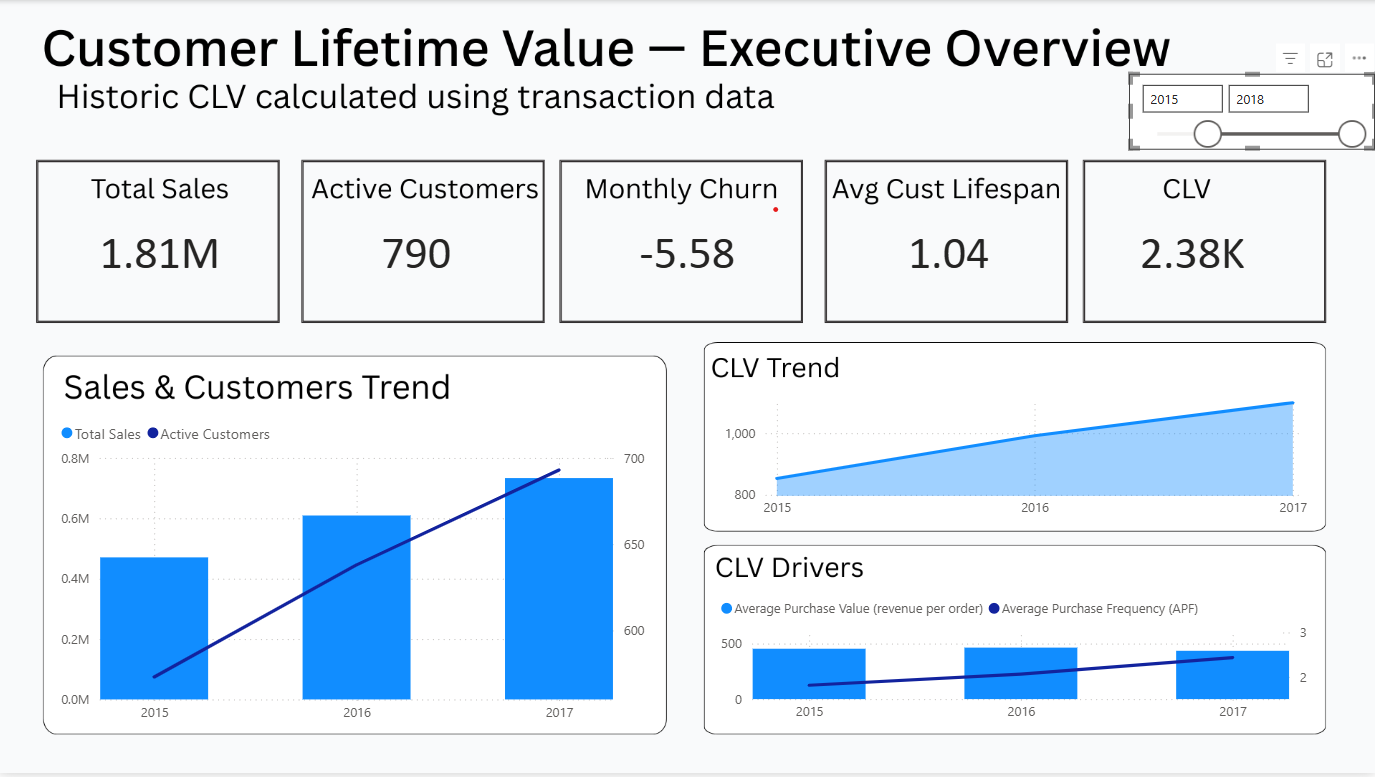

The page's visual inventory and layout, read from the dashboard file:
{"tool":"powerbi","page":{"name":"CLV -1 ","canvas":[1280,720],"ordinal":0},"visuals":[{"type":"card","fields":{"Values":["Superstore.Total Sales"]},"box":[70,192,160,80],"z":0},{"type":"card","fields":{"Values":["Superstore.Active Customers"]},"box":[308,192,160,80],"z":1000},{"type":"card","fields":{"Values":["Superstore.Monthly Churn"]},"box":[560,192,160,80],"z":2000},{"type":"card","fields":{"Values":["Superstore.Average Customer Lifespan (months)"]},"box":[804,192,160,80],"z":3000},{"type":"card","fields":{"Values":["Superstore.-- CLV using ARPC * Avg LifespanCLV (ARPC * Lifespan)"]},"box":[1030,192,160,80],"z":4000},{"type":"lineStackedColumnComboChart","fields":{"Category":["Order - Dates.Dates.Variation.Date Hierarchy.Year","Order - Dates.Dates.Variation.Date Hierarchy.Quarter","Order - Dates.Dates.Variation.Date Hierarchy.Month","Order - Dates.Dates.Variation.Date Hierarchy.Day"],"Y":["Superstore.Total Sales"],"Y2":["Superstore.Active Customers"]},"box":[52,382,554,298],"z":5000},{"type":"stackedAreaChart","fields":{"Category":["Order - Dates.Dates.Variation.Date Hierarchy.Year","Order - Dates.Dates.Variation.Date Hierarchy.Quarter","Order - Dates.Dates.Variation.Date Hierarchy.Month","Order - Dates.Dates.Variation.Date Hierarchy.Day"],"Y":["Superstore.-- CLV using APV * APF * Lifespan (equivalent)CLV (APV * APF * Lifespan)"]},"box":[670,360,552,130],"z":6000},{"type":"lineClusteredColumnComboChart","fields":{"Category":["Order - Dates.Dates.Variation.Date Hierarchy.Year","Order - Dates.Dates.Variation.Date Hierarchy.Quarter","Order - Dates.Dates.Variation.Date Hierarchy.Month","Order - Dates.Dates.Variation.Date Hierarchy.Day"],"Y":["Superstore.Average Purchase Value (revenue per order)"],"Y2":["Superstore.Average Purchase Frequency (APF)"]},"box":[666,546,556,134],"z":7000},{"type":"slicer","fields":{"Values":["Order - Dates.Year"]},"box":[1051.4,68.6,228.6,71.4],"z":8000}]}

Visuals, with their boxes in screenshot pixels (x1, y1, x2, y2), scaled from the page's 1280x720 canvas onto the 1375x777 screenshot:
card - Superstore.Total Sales: BBox(75, 207, 247, 294)
card - Superstore.Active Customers: BBox(331, 207, 503, 294)
card - Superstore.Monthly Churn: BBox(602, 207, 773, 294)
card - Superstore.Average Customer Lifespan (months): BBox(864, 207, 1036, 294)
card - Superstore.-- CLV using ARPC * Avg LifespanCLV (ARPC * Lifespan): BBox(1106, 207, 1278, 294)
lineStackedColumnComboChart - Order - Dates.Dates.Variation.Date Hierarchy.Year x Order - Dates.Dates.Variation.Date Hierarchy.Quarter: BBox(56, 412, 651, 734)
stackedAreaChart - Order - Dates.Dates.Variation.Date Hierarchy.Year x Order - Dates.Dates.Variation.Date Hierarchy.Quarter: BBox(720, 388, 1313, 529)
lineClusteredColumnComboChart - Order - Dates.Dates.Variation.Date Hierarchy.Year x Order - Dates.Dates.Variation.Date Hierarchy.Quarter: BBox(715, 589, 1313, 734)
slicer - Order - Dates.Year: BBox(1129, 74, 1374, 151)
